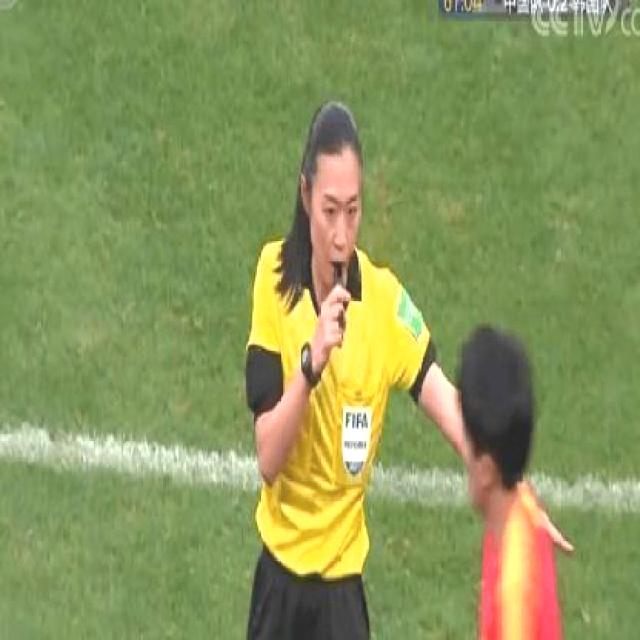face_nomask: (312, 171, 368, 278)
hand_noglove: (309, 283, 351, 360), (536, 497, 576, 555)
head_nohelmet: (452, 332, 538, 478), (297, 102, 365, 169)
person: (240, 78, 426, 640), (431, 315, 582, 640)
